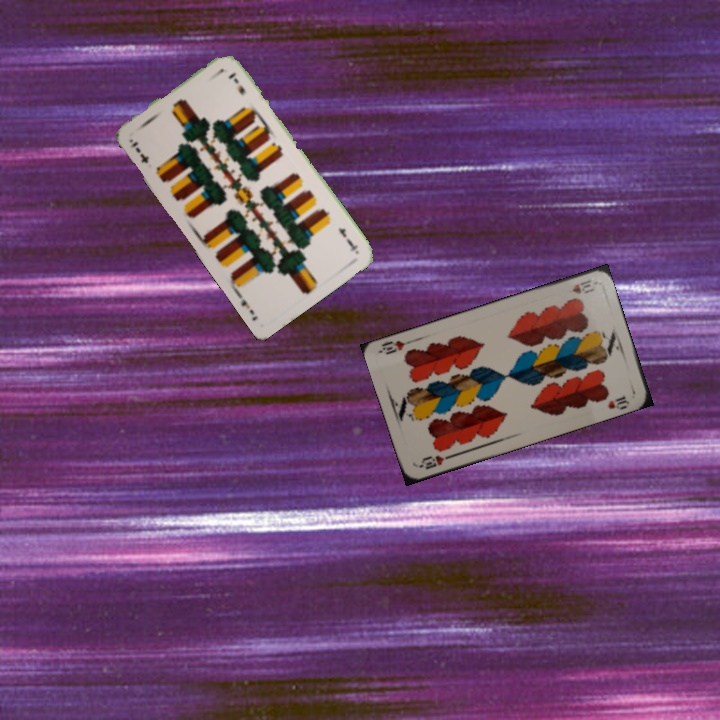E7: (334, 223, 361, 255), (127, 137, 152, 166)
H10: (415, 451, 455, 472), (568, 276, 596, 296)
